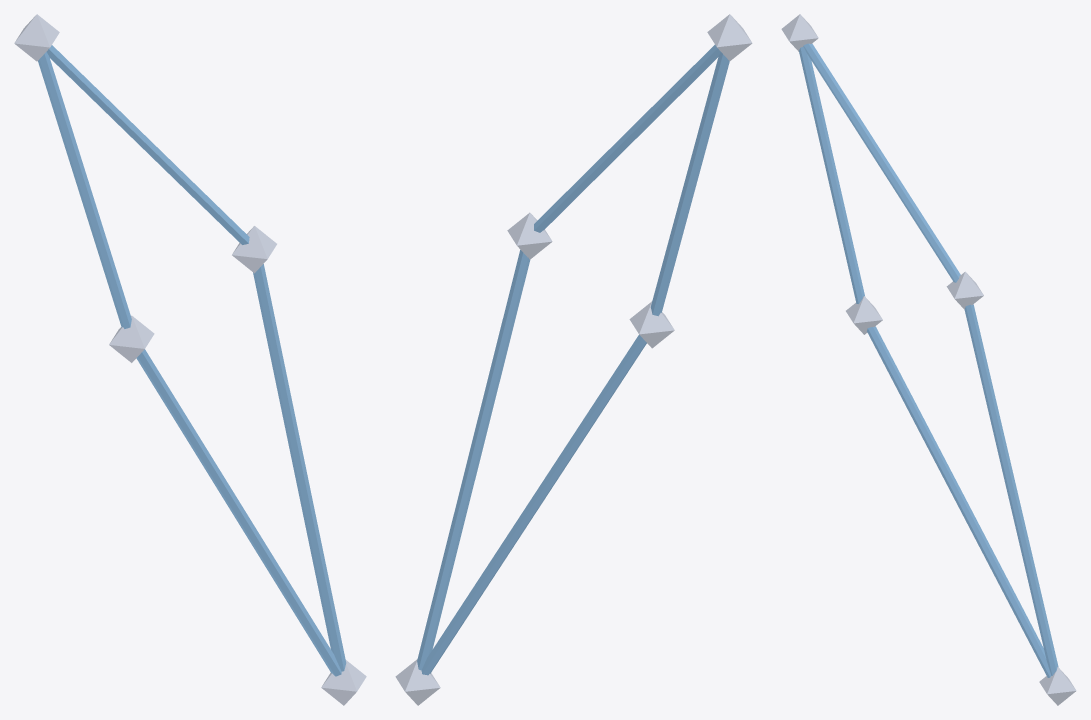
The model's file is constellation-sct.glb.
The picture shows the model from 3 angles, left to right: view 1: azimuth 30°, elevation 25°; view 2: azimuth 150°, elevation 25°; view 3: azimuth 330°, elevation 25°; orthographic projection. The views are drawn at different scales.
Bounding box in the file's own units: 0.5299 × 1.09 × 0.0986.
